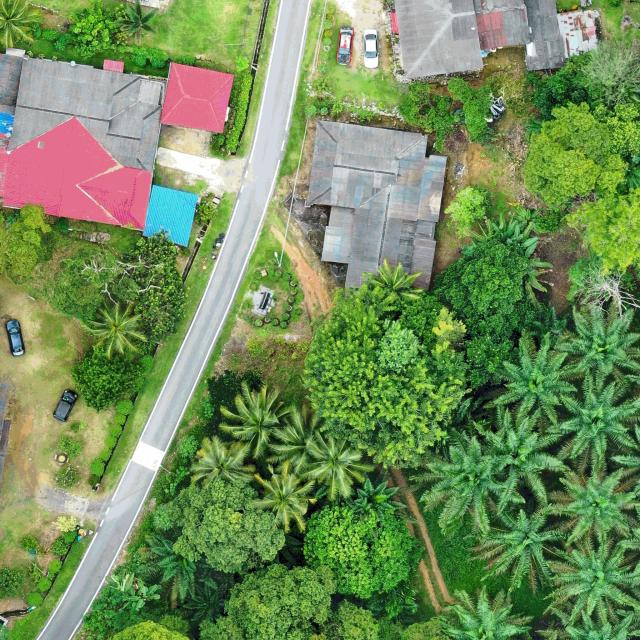Tree: (302, 283, 472, 468), (431, 236, 549, 390), (50, 227, 189, 355), (198, 560, 379, 640), (408, 422, 528, 540), (153, 475, 289, 577), (520, 100, 640, 212), (302, 502, 426, 600), (539, 376, 640, 475), (469, 402, 570, 501), (527, 35, 640, 123), (544, 534, 639, 634), (466, 496, 566, 588), (542, 457, 640, 548), (492, 336, 578, 434), (555, 306, 640, 396), (399, 76, 494, 152), (563, 186, 640, 273), (216, 381, 292, 461), (143, 528, 216, 606), (298, 432, 375, 503), (248, 458, 315, 535), (70, 345, 140, 413), (85, 300, 148, 362), (66, 0, 130, 61), (268, 405, 331, 464), (361, 257, 426, 310), (191, 436, 254, 490), (352, 472, 406, 524), (444, 183, 492, 240), (109, 572, 163, 612), (0, 0, 42, 50), (118, 0, 158, 36), (508, 206, 544, 235)
